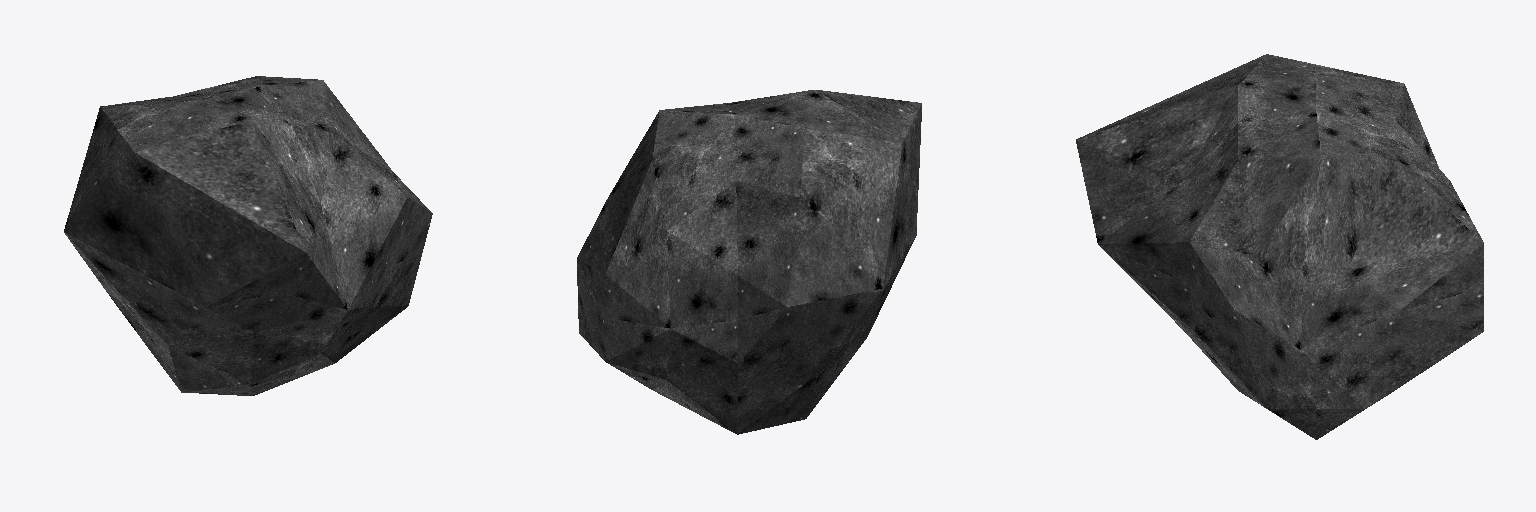
3 renders of one model, left to right at view 1: azimuth 30°, elevation 25°; view 2: azimuth 150°, elevation 25°; view 3: azimuth 270°, elevation 25°, orthographic.
Visible parts, largest first — view 1: asteroid 2; view 2: asteroid 2; view 3: asteroid 2.
Boxes of the visible parts, box(x1,y1,x2,y2) form: asteroid 2: box(64, 76, 432, 395); asteroid 2: box(577, 90, 921, 434); asteroid 2: box(1076, 54, 1483, 439).
Bounding box in the file's own units: 2.26 × 2.21 × 2.6.
Materials: 1 (1 with a texture image).